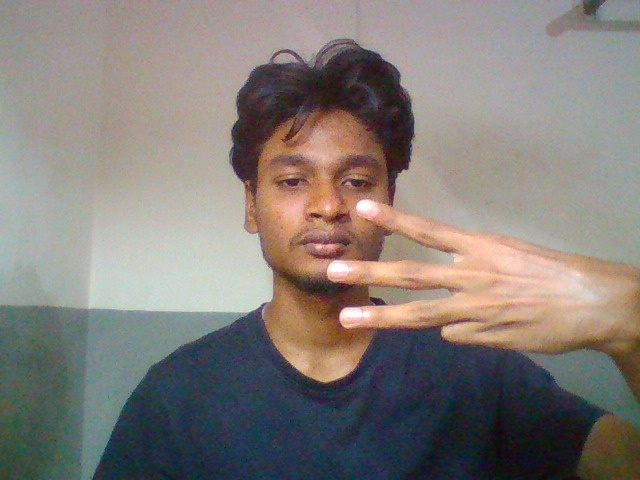E: (309, 183, 640, 380)
